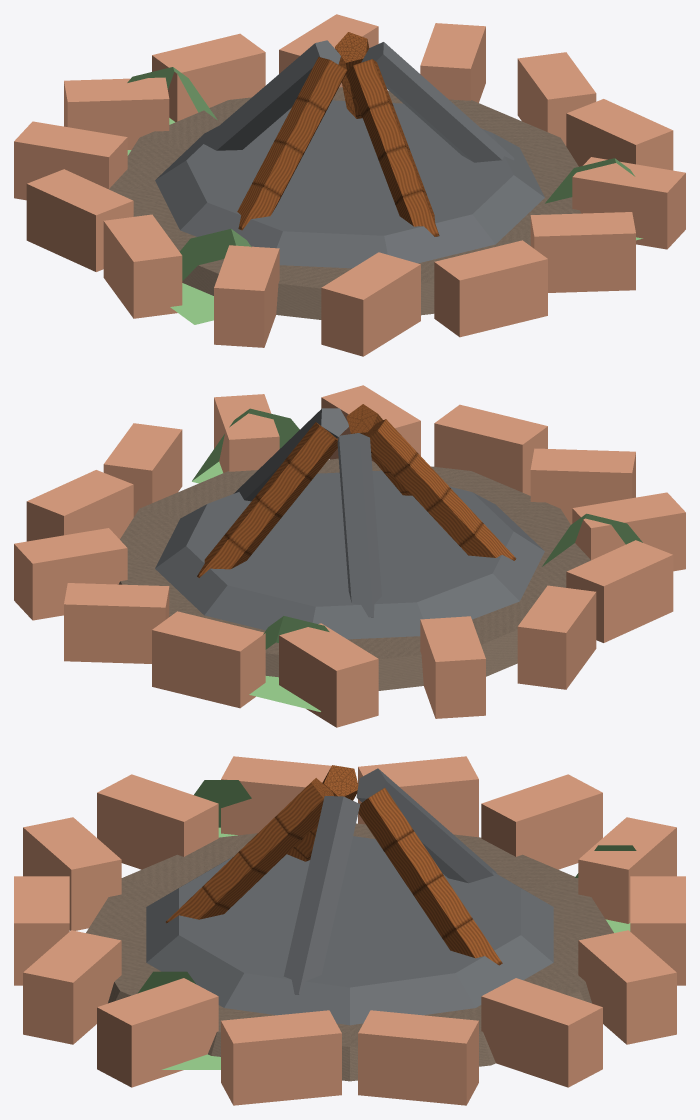
File: allotments-and-community-garden-bonfire-ring-fec50b18__35161.glb
The picture shows the model from 3 angles, top to bottom: view 1: azimuth 30°, elevation 25°; view 2: azimuth 150°, elevation 25°; view 3: azimuth 270°, elevation 25°; orthographic projection. The views are drawn at different scales.
Parts seen in each view (by area): view 1: bonfire-ring-terracotta, bonfire-ring-charcoal, bonfire-ring-soil, bonfire-ring-timber, bonfire-ring-leaf; view 2: bonfire-ring-terracotta, bonfire-ring-charcoal, bonfire-ring-soil, bonfire-ring-timber, bonfire-ring-leaf; view 3: bonfire-ring-terracotta, bonfire-ring-charcoal, bonfire-ring-soil, bonfire-ring-timber, bonfire-ring-leaf.
Boxes of the visible parts, left/top/right/bottom form: bonfire-ring-terracotta: left=14, top=14, right=685, bottom=356; bonfire-ring-charcoal: left=155, top=40, right=544, bottom=268; bonfire-ring-soil: left=109, top=87, right=581, bottom=319; bonfire-ring-timber: left=237, top=32, right=439, bottom=236; bonfire-ring-leaf: left=127, top=67, right=642, bottom=324; bonfire-ring-terracotta: left=14, top=385, right=685, bottom=727; bonfire-ring-charcoal: left=155, top=408, right=544, bottom=639; bonfire-ring-soil: left=118, top=458, right=590, bottom=690; bonfire-ring-timber: left=197, top=404, right=516, bottom=577; bonfire-ring-leaf: left=192, top=408, right=642, bottom=711; bonfire-ring-terracotta: left=14, top=756, right=685, bottom=1105; bonfire-ring-charcoal: left=146, top=768, right=553, bottom=1025; bonfire-ring-soil: left=86, top=823, right=613, bottom=1081; bonfire-ring-timber: left=165, top=765, right=502, bottom=965; bonfire-ring-leaf: left=137, top=780, right=636, bottom=1069.
Bounding box in the file's own units: 1.59 × 0.4694 × 1.57.
5 materials, 2 textured.
